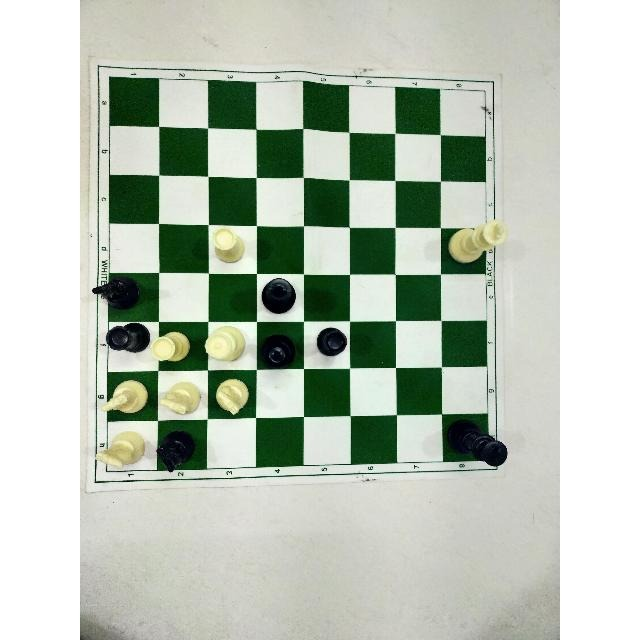black-king: (445, 417, 509, 467), (261, 277, 297, 313)
black-knight: (91, 275, 141, 311), (156, 431, 196, 473)
black-queen: (259, 333, 297, 370)
black-rook: (106, 322, 150, 354), (315, 326, 347, 357)
white-king: (447, 220, 508, 266)
white-knight: (97, 429, 145, 468), (101, 379, 149, 415), (160, 381, 202, 415), (216, 378, 250, 416)
white-queen: (204, 325, 246, 362)
white-rook: (211, 223, 245, 264), (150, 332, 191, 364)
